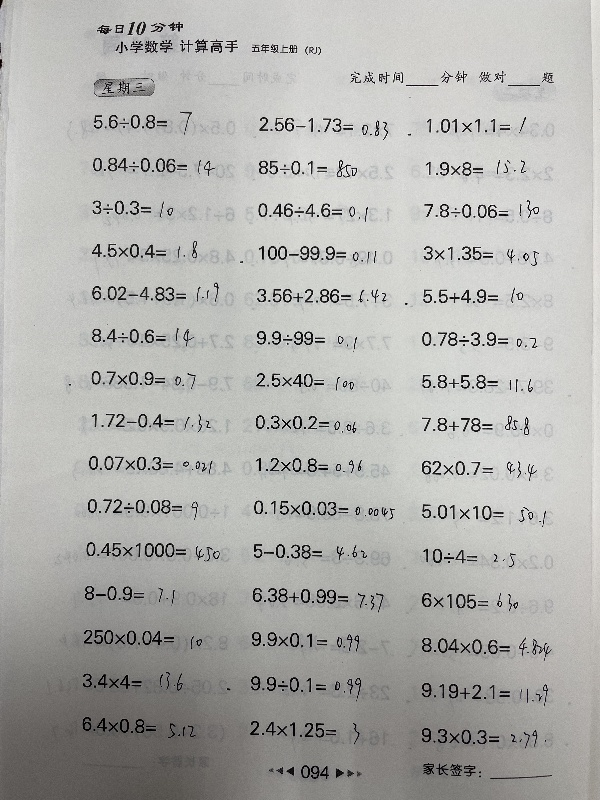equation: (248, 580, 391, 623), (75, 622, 206, 661), (418, 632, 555, 668), (417, 677, 555, 712), (244, 714, 364, 753), (82, 536, 225, 568), (77, 710, 197, 747), (80, 578, 187, 618), (249, 672, 369, 706), (248, 537, 393, 565), (248, 496, 397, 523), (255, 111, 392, 138), (87, 278, 222, 305), (416, 498, 549, 525), (418, 725, 545, 753), (418, 541, 522, 575), (80, 670, 190, 701), (416, 408, 533, 436), (87, 409, 213, 435), (82, 494, 201, 521), (416, 454, 539, 480), (248, 629, 365, 656), (87, 152, 218, 176), (418, 241, 541, 266), (419, 196, 542, 221), (83, 451, 215, 474), (89, 110, 197, 138), (253, 284, 390, 306), (254, 240, 379, 264), (86, 320, 196, 347), (416, 326, 539, 350), (252, 197, 370, 222), (88, 236, 201, 262), (416, 369, 536, 393), (251, 453, 365, 478), (415, 587, 521, 613), (251, 326, 359, 351), (86, 366, 198, 390), (254, 156, 361, 181), (251, 368, 357, 393), (418, 283, 526, 307), (250, 410, 359, 433), (420, 155, 528, 178), (421, 113, 528, 136), (88, 196, 177, 220)
